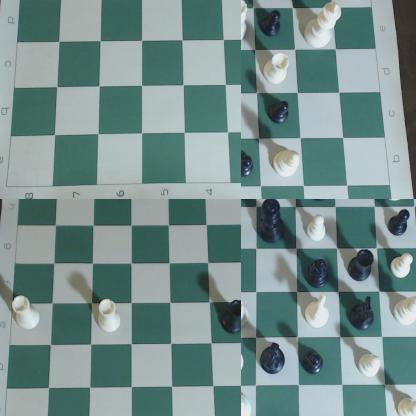black-bishop: (307, 257, 333, 288)
black-king: (261, 200, 287, 253)
black-knight: (349, 297, 379, 334), (258, 345, 288, 375)
black-pawn: (271, 98, 296, 134), (389, 207, 414, 241), (301, 350, 331, 377), (263, 13, 288, 45), (242, 146, 261, 184), (308, 200, 335, 206)
black-rook: (348, 250, 375, 286), (222, 295, 241, 341)
white-bishop: (272, 147, 304, 178), (393, 292, 416, 330)
white-king: (302, 1, 346, 54)
white-knight: (305, 295, 334, 330)
white-pawn: (357, 351, 385, 380), (392, 252, 416, 283), (307, 211, 329, 242), (397, 394, 416, 416)
white-queen: (242, 1, 249, 47), (242, 393, 253, 416)
white-rook: (10, 294, 48, 334), (266, 51, 290, 91), (98, 299, 123, 334), (242, 298, 256, 333)
